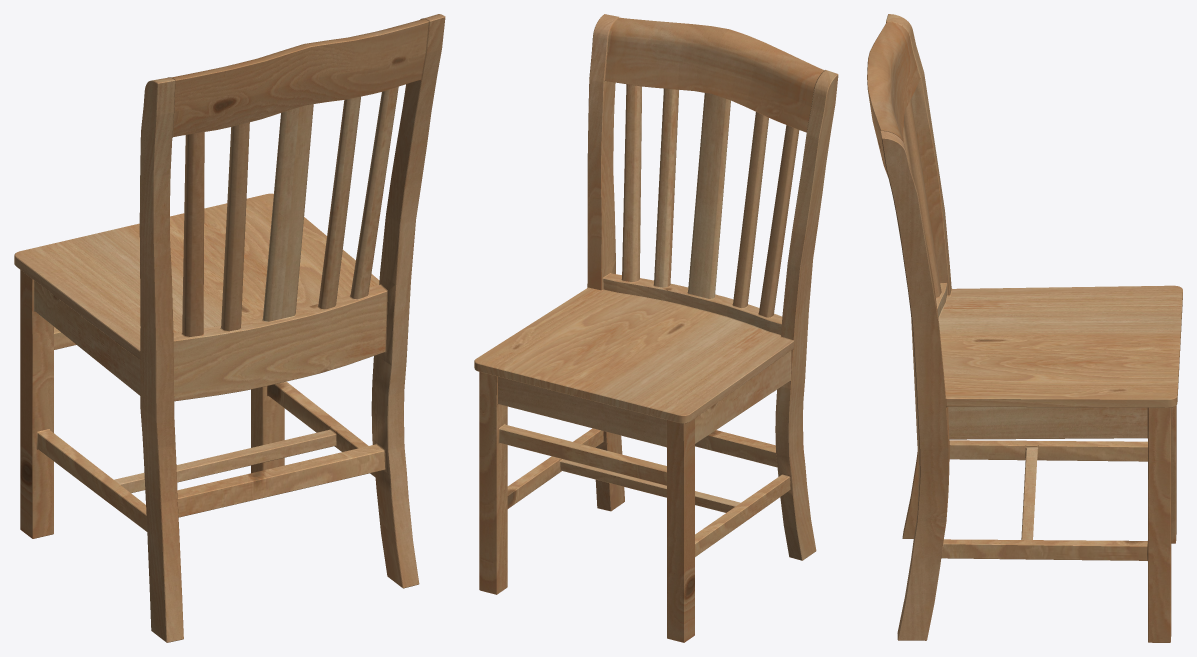
File: chair0.fbx
3 renders of one model, left to right at view 1: azimuth 30°, elevation 25°; view 2: azimuth 150°, elevation 25°; view 3: azimuth 270°, elevation 25°, orthographic. The views are drawn at different scales.
Parts seen in each view (by area): view 1: Wooden Dining Chair.011; view 2: Wooden Dining Chair.011; view 3: Wooden Dining Chair.011.
Boxes of the visible parts, x1,y1,x2,y2 form: Wooden Dining Chair.011: (14,14,445,642); Wooden Dining Chair.011: (474,14,838,642); Wooden Dining Chair.011: (867,14,1182,642).
Bounding box in the file's own units: 493 × 960 × 529.
Materials: 1 (1 with a texture image).
